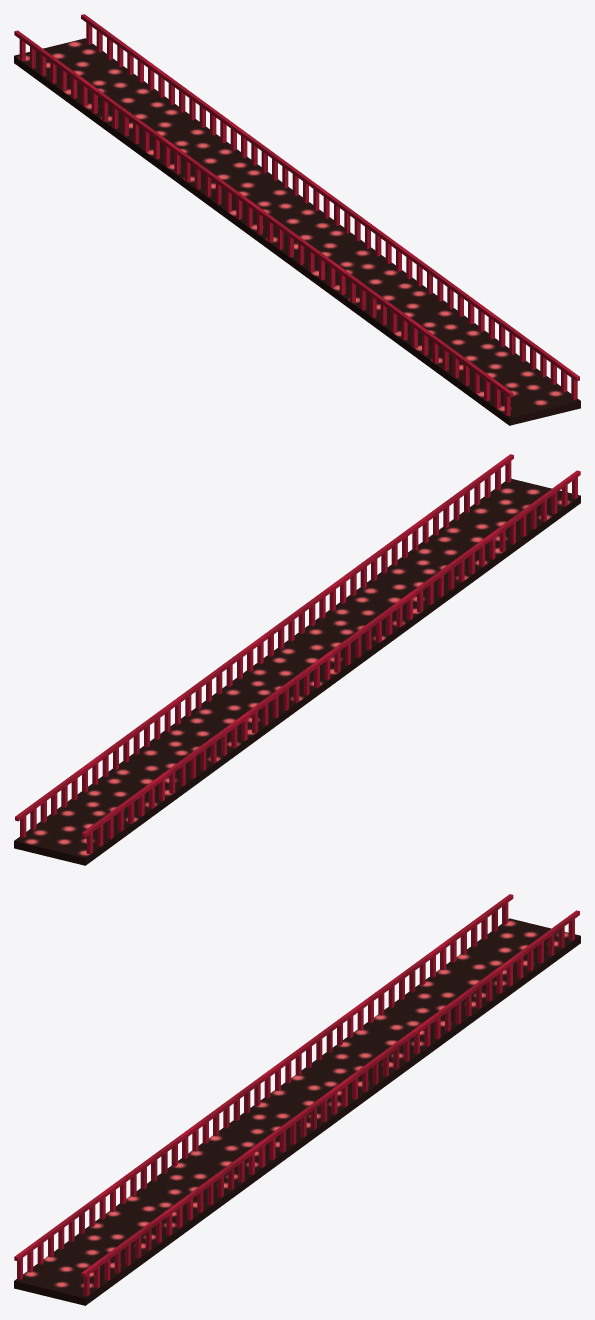
The model's file is PathwWayLong.fbx.
3 views of the same model, one above another, from view 1: azimuth 30°, elevation 25°; view 2: azimuth 150°, elevation 25°; view 3: azimuth 330°, elevation 25° (orthographic).
Parts seen in each view (by area): view 1: Path.005, Path, Path.001, Path.004, Path.003, Path.002, RailingL.005, RailingR.005, RailingR.004, RailingL.004, RailingL.002, RailingR.002 (+6 smaller); view 2: Path.003, Path.001, Path.005, Path.004, Path, Path.002, RailingR, RailingL, RailingL.003, RailingR.003, RailingL.002, RailingR.002 (+6 smaller); view 3: Path.005, Path.004, Path.001, Path.003, Path.002, Path, RailingR, RailingL, RailingL.003, RailingR.002, RailingL.002, RailingR.003 (+6 smaller).
Part boxes in pixels (x1=…): Path.005: x1=427, y1=340, x2=580, y2=425; Path: x1=261, y1=219, x2=415, y2=304; Path.001: x1=179, y1=159, x2=332, y2=243; Path.004: x1=96, y1=98, x2=250, y2=183; Path.003: x1=14, y1=38, x2=167, y2=123; Path.002: x1=344, y1=280, x2=497, y2=364; RailingL.005: x1=427, y1=332, x2=513, y2=416; RailingR.005: x1=494, y1=316, x2=579, y2=399; RailingR.004: x1=163, y1=74, x2=249, y2=158; RailingL.004: x1=97, y1=91, x2=182, y2=174; RailingL.002: x1=344, y1=272, x2=430, y2=355; RailingR.002: x1=411, y1=256, x2=496, y2=339; Path.003: x1=14, y1=781, x2=167, y2=865; Path.001: x1=181, y1=660, x2=333, y2=744; Path.005: x1=428, y1=478, x2=580, y2=563; Path.004: x1=98, y1=720, x2=250, y2=804; Path: x1=263, y1=599, x2=415, y2=683; Path.002: x1=346, y1=539, x2=498, y2=623; RailingR: x1=263, y1=575, x2=348, y2=656; RailingL: x1=329, y1=591, x2=415, y2=672; RailingL.003: x1=81, y1=772, x2=167, y2=854; RailingR.003: x1=15, y1=756, x2=100, y2=837; RailingL.002: x1=412, y1=531, x2=497, y2=612; RailingR.002: x1=345, y1=514, x2=431, y2=596; Path.005: x1=14, y1=1220, x2=167, y2=1305; Path.004: x1=344, y1=979, x2=498, y2=1063; Path.001: x1=262, y1=1039, x2=415, y2=1123; Path.003: x1=427, y1=918, x2=580, y2=1003; Path.002: x1=97, y1=1160, x2=250, y2=1245; Path: x1=179, y1=1099, x2=333, y2=1184; RailingR: x1=246, y1=1092, x2=332, y2=1175; RailingL: x1=180, y1=1075, x2=265, y2=1158; RailingL.003: x1=427, y1=894, x2=513, y2=977; RailingR.002: x1=164, y1=1152, x2=249, y2=1235; RailingL.002: x1=97, y1=1136, x2=182, y2=1219; RailingR.003: x1=494, y1=910, x2=579, y2=993.
Size of the model in its own units: 600 by 255 by 7200.
